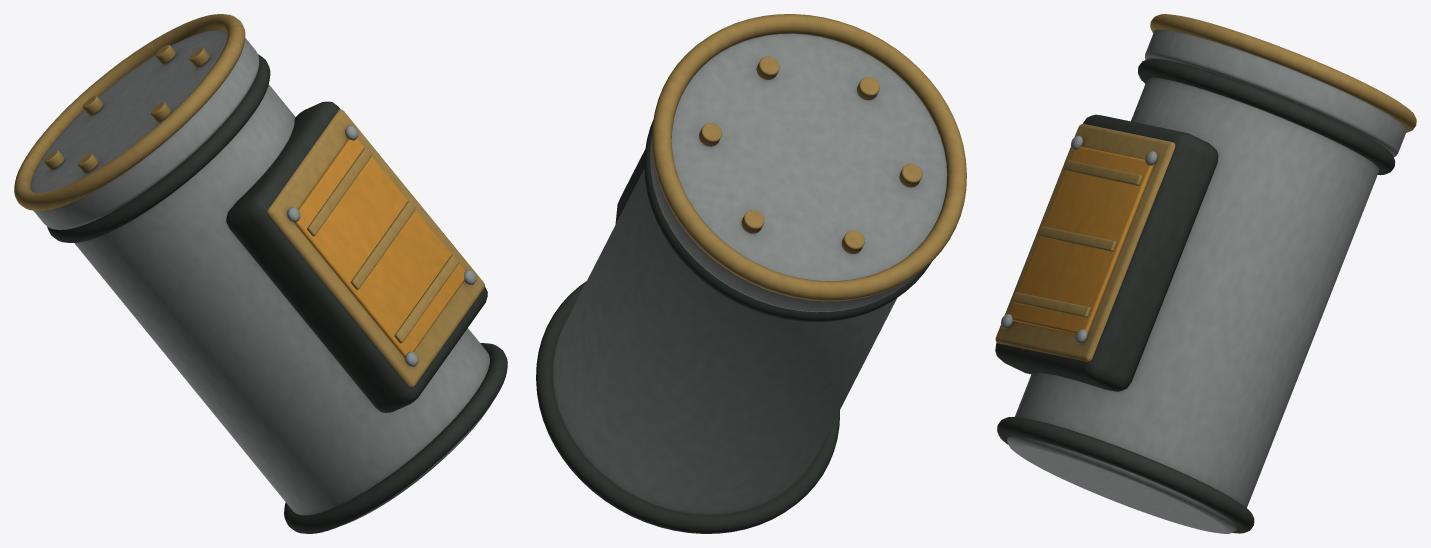
3 renders of one model, left to right at view 1: azimuth 30°, elevation 25°; view 2: azimuth 150°, elevation 25°; view 3: azimuth 270°, elevation 25°, orthographic. The views are drawn at different scales.
Parts seen in each view (by area): view 1: Closed sample vessel; view 2: Closed sample vessel; view 3: Closed sample vessel.
Boxes of the visible parts, x1=… form: Closed sample vessel: x1=14, y1=14, x2=507, y2=533; Closed sample vessel: x1=536, y1=14, x2=966, y2=533; Closed sample vessel: x1=995, y1=14, x2=1416, y2=533.
Size of the model in its own units: 1.03 by 1.17 by 0.9463.
Materials: 1 (1 with a texture image).
